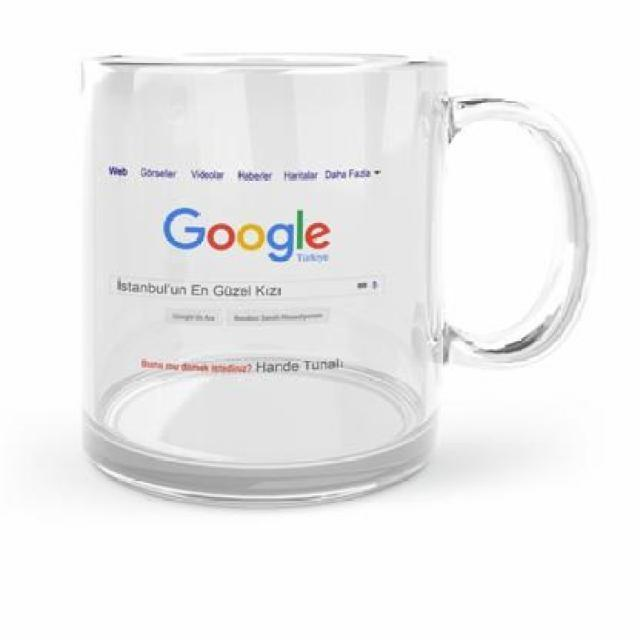taza: (75, 50, 594, 508)
